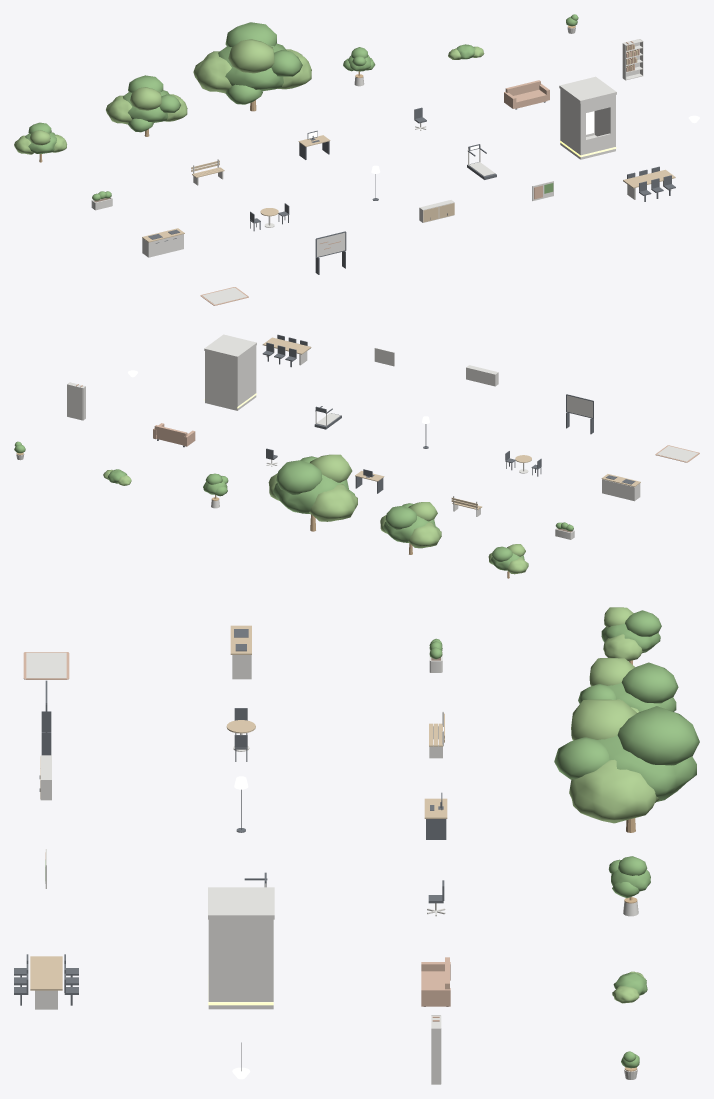
File: city-kit-2127.glb
3 views of the same model, one above another, from view 1: azimuth 30°, elevation 25°; view 2: azimuth 150°, elevation 25°; view 3: azimuth 270°, elevation 25° (orthographic). The views are drawn at different scales.
Parts seen in each view (by area): view 1: lift_cabin__kit_white, tree_round_l__kit_leaf_a, tree_round_l__kit_leaf_b, tree_round_m__kit_leaf_a, tree_round_m__kit_leaf_b, sofa__kit_fabric, tree_round_s__kit_leaf_b, kitchen_counter__kit_white, bookshelf__kit_white, meeting_table__kit_dark, tree_indoor__kit_leaf_a, whiteboard__kit_white (+1 smaller); view 2: lift_cabin__kit_white, tree_round_l__kit_leaf_a, tree_round_l__kit_leaf_b, tree_round_m__kit_leaf_a, tree_round_m__kit_leaf_b, bookshelf__kit_white, sofa__kit_fabric, kitchen_counter__kit_white, upper_cabinet__kit_white, meeting_table__kit_dark, tree_round_s__kit_leaf_a, tree_round_s__kit_leaf_b (+2 smaller); view 3: lift_cabin__kit_white, tree_round_l__kit_leaf_a, tree_round_l__kit_leaf_b, tree_round_m__kit_leaf_a, tree_round_s__kit_leaf_a, sofa__kit_fabric, tree_indoor__kit_leaf_a, tree_round_s__kit_leaf_b, meeting_table__kit_wood, rug__kit_white, tree_round_m__kit_leaf_b, meeting_table__kit_dark (+1 smaller).
Part boxes in pixels (left/top/right/bottom): lift_cabin__kit_white: left=559, top=76, right=616, bottom=159; tree_round_l__kit_leaf_a: left=218, top=22, right=302, bottom=104; tree_round_l__kit_leaf_b: left=193, top=39, right=311, bottom=93; tree_round_m__kit_leaf_a: left=123, top=75, right=180, bottom=132; tree_round_m__kit_leaf_b: left=106, top=87, right=187, bottom=124; sofa__kit_fabric: left=504, top=80, right=549, bottom=108; tree_round_s__kit_leaf_b: left=14, top=130, right=66, bottom=154; kitchen_counter__kit_white: left=142, top=234, right=183, bottom=257; bookshelf__kit_white: left=622, top=39, right=643, bottom=80; meeting_table__kit_dark: left=623, top=166, right=675, bottom=201; tree_indoor__kit_leaf_a: left=343, top=47, right=375, bottom=71; whiteboard__kit_white: left=317, top=232, right=345, bottom=256; lift_cabin__kit_white: left=204, top=334, right=256, bottom=410; tree_round_l__kit_leaf_a: left=273, top=456, right=355, bottom=514; tree_round_l__kit_leaf_b: left=268, top=454, right=357, bottom=521; tree_round_m__kit_leaf_a: left=383, top=503, right=439, bottom=542; tree_round_m__kit_leaf_b: left=380, top=502, right=441, bottom=548; bookshelf__kit_white: left=67, top=382, right=85, bottom=420; sofa__kit_fabric: left=153, top=423, right=195, bottom=446; kitchen_counter__kit_white: left=602, top=479, right=640, bottom=501; upper_cabinet__kit_white: left=466, top=365, right=498, bottom=386; meeting_table__kit_dark: left=262, top=334, right=310, bottom=367; tree_round_s__kit_leaf_a: left=490, top=546, right=524, bottom=570; tree_round_s__kit_leaf_b: left=488, top=544, right=528, bottom=574; lift_cabin__kit_white: left=208, top=887, right=274, bottom=1009; tree_round_l__kit_leaf_a: left=554, top=706, right=699, bottom=801; tree_round_l__kit_leaf_b: left=569, top=699, right=692, bottom=823; tree_round_m__kit_leaf_a: left=578, top=662, right=678, bottom=711; tree_round_s__kit_leaf_a: left=601, top=610, right=661, bottom=652; sofa__kit_fabric: left=421, top=957, right=450, bottom=1006; tree_indoor__kit_leaf_a: left=608, top=856, right=650, bottom=898; tree_round_s__kit_leaf_b: left=603, top=607, right=643, bottom=661; meeting_table__kit_wood: left=30, top=956, right=62, bottom=990; rug__kit_white: left=26, top=652, right=66, bottom=678; tree_round_m__kit_leaf_b: left=589, top=658, right=639, bottom=712; meeting_table__kit_dark: left=14, top=954, right=78, bottom=1005.
Size of the model in its own units: 31.77 by 4.17 by 21.13.
